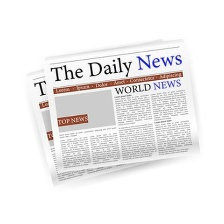news_paper: (42, 36, 194, 171), (21, 57, 173, 187)
